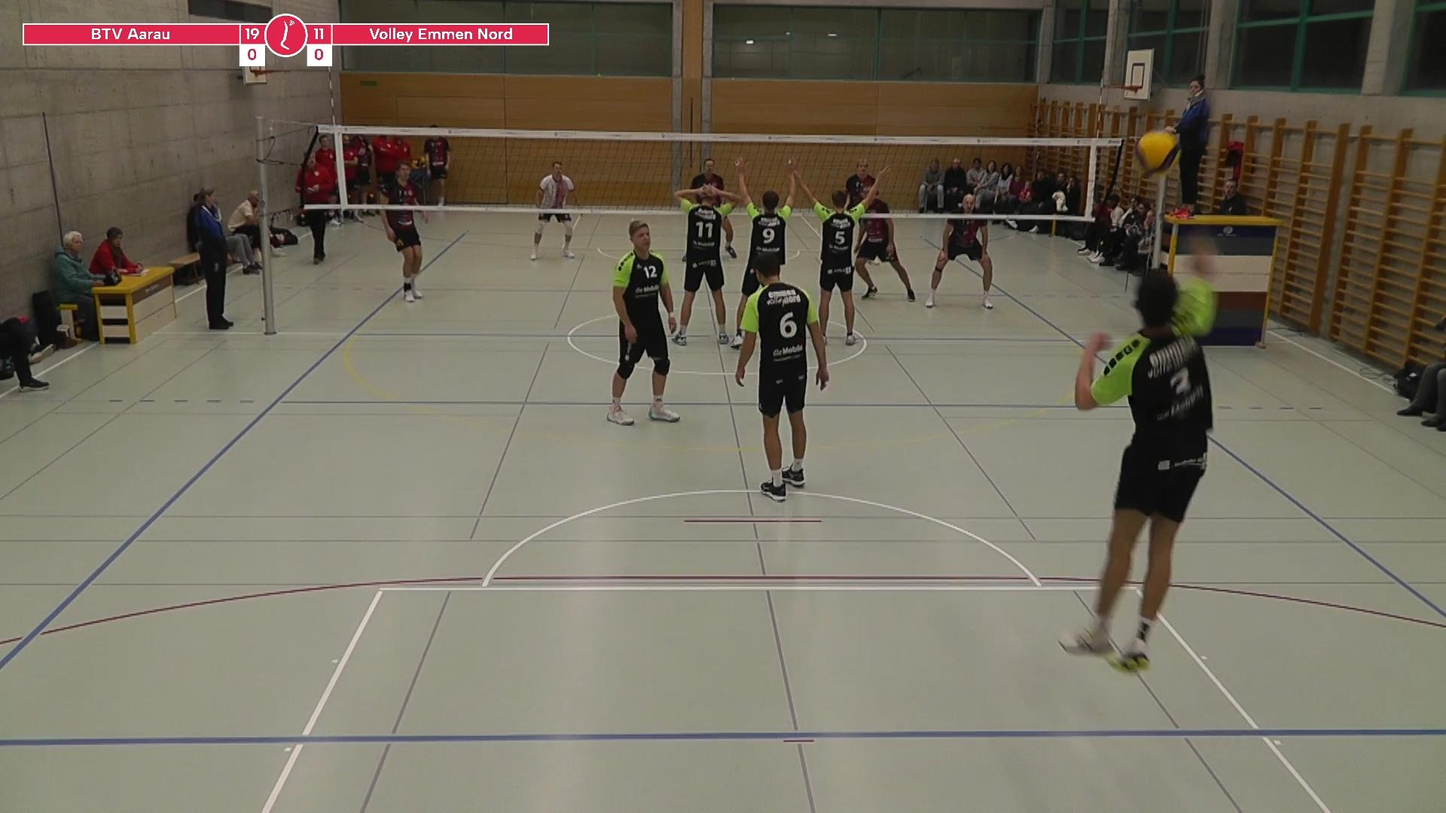Player: (735, 255, 828, 501), (799, 168, 888, 345), (608, 221, 679, 425), (731, 157, 796, 349), (673, 184, 736, 346), (926, 195, 993, 309), (855, 197, 915, 300), (383, 209, 422, 303), (530, 211, 575, 258), (690, 157, 723, 190)
Serve: (1056, 218, 1231, 680)
ball: (1135, 129, 1180, 178)
